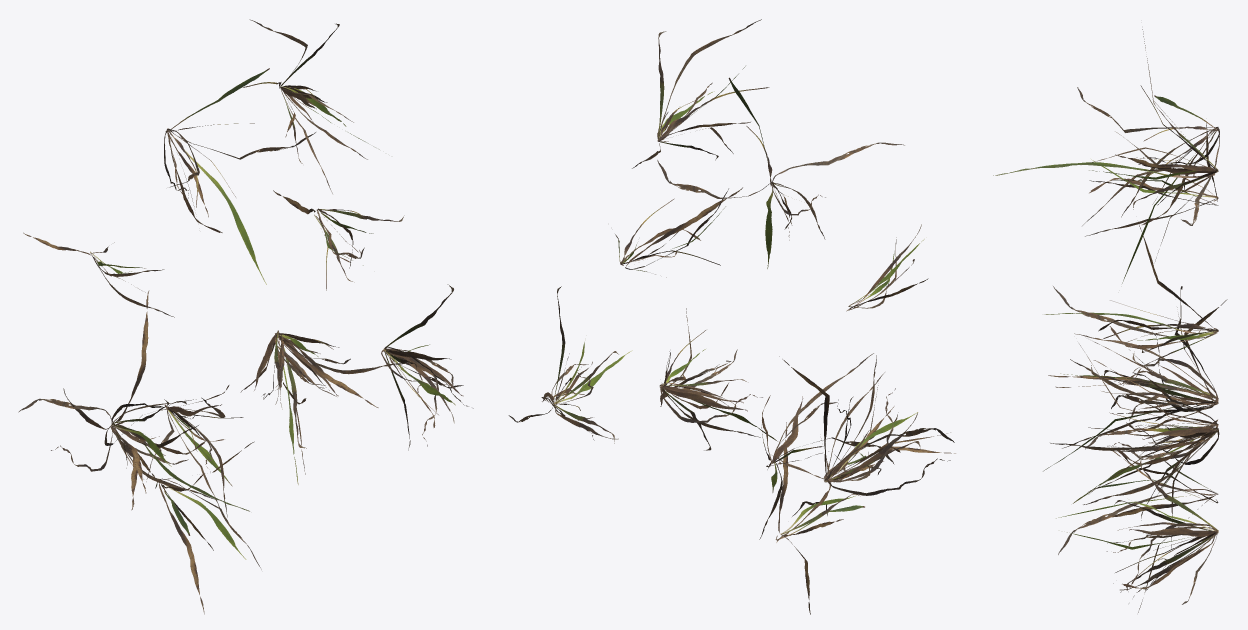
The model's file is Grass_03_Var3_LOD1.fbx.
3 renders of one model, left to right at view 1: azimuth 30°, elevation 25°; view 2: azimuth 150°, elevation 25°; view 3: azimuth 270°, elevation 25°, orthographic. The views are drawn at different scales.
Visible parts, largest first — view 1: Var3_LOD1; view 2: Var3_LOD1; view 3: Var3_LOD1.
Boxes of the visible parts, x1=… form: Var3_LOD1: x1=18, y1=19, x2=473, y2=614; Var3_LOD1: x1=508, y1=19, x2=955, y2=614; Var3_LOD1: x1=993, y1=29, x2=1227, y2=612.
Size of the model in its own units: 60.38 by 75.15 by 26.33.
